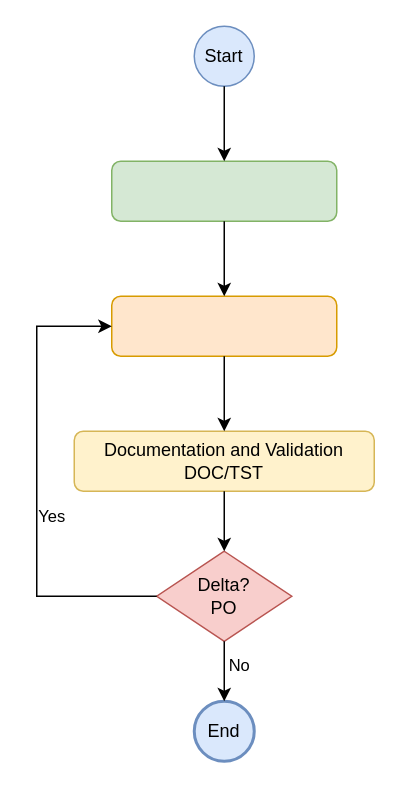
Some shapes in this 401 by 789 pixel diagram are drawn without their labels. Each missing label, with the centre of its shape:
Analysis and Capture DEV: point 223,325
Initial Planning PO: point 223,190
